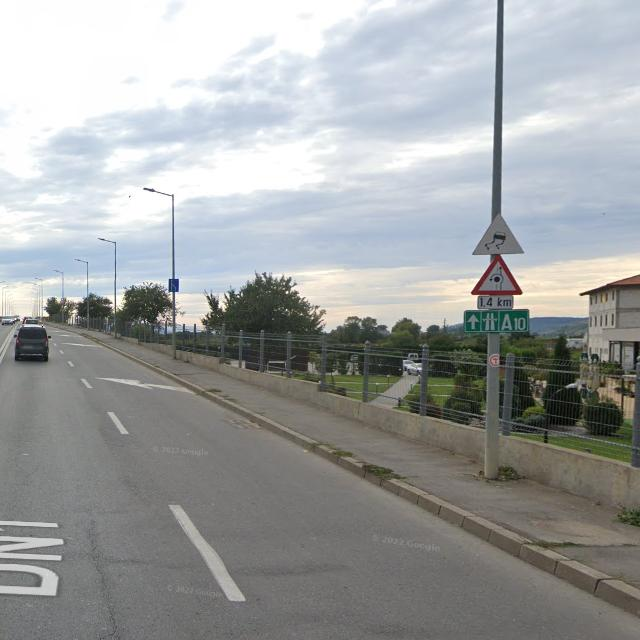warn_slippery_road: (472, 213, 524, 254)
